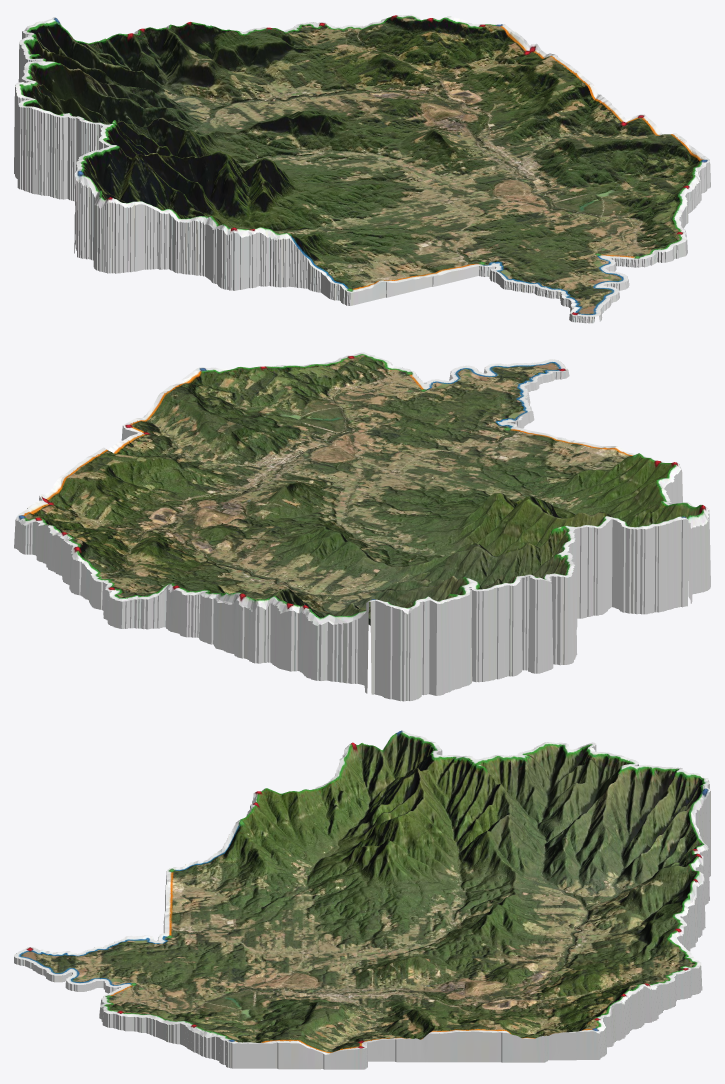
3 views of the same model, one above another, from view 1: azimuth 30°, elevation 25°; view 2: azimuth 150°, elevation 25°; view 3: azimuth 270°, elevation 25° (orthographic). The views are drawn at different scales.
Size of the model in its own units: 1 by 0.1529 by 1.13.
1 material, 1 textured.
